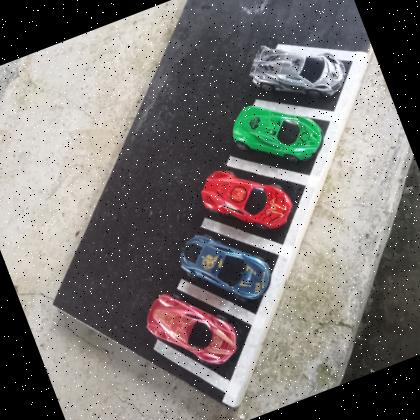Car: (136, 272, 247, 385), (241, 19, 354, 121), (172, 214, 278, 320), (194, 149, 300, 250), (224, 84, 331, 184)
